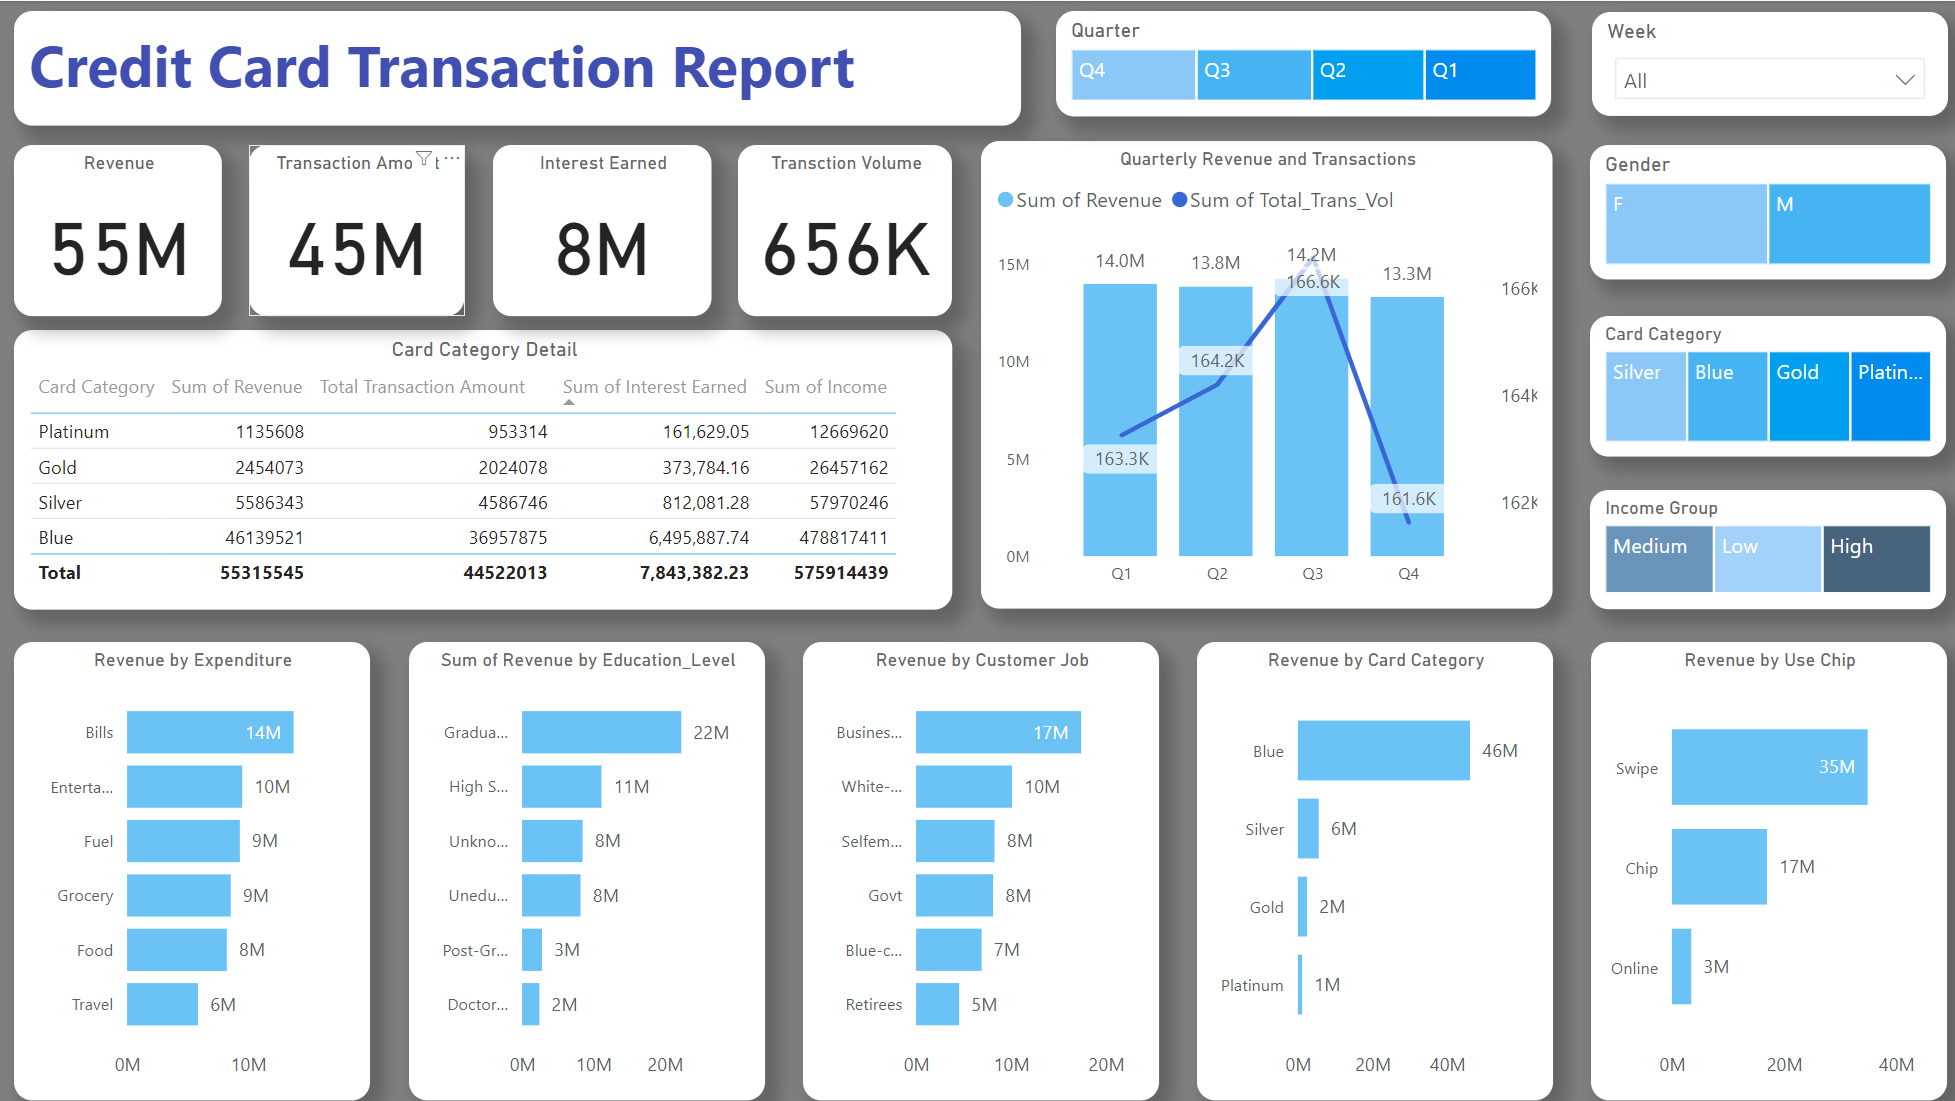

This screenshot's page, from the dashboard's own definition file:
{"tool":"powerbi","page":{"name":"CC Transaction Report","canvas":[1280,720],"ordinal":1},"visuals":[{"type":"textbox","box":[9.9,6.8,658.9,74.9],"z":0},{"type":"lineStackedColumnComboChart","title":"Quarterly Revenue and Transactions","fields":{"Category":["credit_card.Qtr"],"Y":["Sum(credit_card.Revenue)"],"Y2":["Sum(credit_card.Total_Trans_Vol)"]},"box":[642.4,91.7,374.1,306],"z":1000},{"type":"barChart","title":"Revenue by Expenditure","fields":{"Category":["credit_card.Exp Type"],"Y":["Sum(credit_card.Revenue)"]},"box":[10.1,419.3,232.5,299.9],"z":2000},{"type":"tableEx","title":"Card Category Detail","fields":{"Values":["credit_card.Card_Category","Sum(credit_card.Revenue)","Sum(credit_card.Total_Trans_Amt)","Sum(credit_card.Interest_Earned)","Sum(customer.Income)"]},"box":[10.1,215,614,182.7],"z":3000},{"type":"barChart","fields":{"Y":["Sum(credit_card.Revenue)"],"Category":["customer.Education_Level"]},"box":[268.1,419.3,232.7,299.9],"z":4000},{"type":"slicer","title":"Week","fields":{"Values":["credit_card.Week_Start_Date"]},"box":[1042.2,6.9,232.8,68.4],"z":5000},{"type":"barChart","title":"Revenue by Customer Job","fields":{"Category":["customer.Customer_Job"],"Y":["Sum(credit_card.Revenue)"]},"box":[525.9,419.3,232.8,299.9],"z":6000},{"type":"treemap","title":"Quarter","fields":{"Group":["credit_card.Qtr"],"Values":["Avg(customer.Client_Num)"]},"box":[691.7,6.8,324.5,68.7],"z":7000},{"type":"barChart","title":"Revenue by Card Category","fields":{"Category":["credit_card.Card_Category"],"Y":["Sum(credit_card.Revenue)"]},"box":[783.8,419.3,232.8,299.9],"z":8000},{"type":"treemap","title":"Gender","fields":{"Group":["customer.Gender"],"Values":["Avg(customer.Client_Num)"]},"box":[1041.4,94.4,233.2,88.3],"z":9000},{"type":"barChart","title":"Revenue by Use Chip","fields":{"Category":["credit_card.Use Chip"],"Y":["Sum(credit_card.Revenue)"]},"box":[1042.1,419.3,232.5,299.9],"z":10000},{"type":"treemap","title":"Card Category","fields":{"Group":["credit_card.Card_Category"],"Values":["Avg(customer.Client_Num)"]},"box":[1041.4,206.3,233.2,92.3],"z":11000},{"type":"treemap","title":"Income Group","fields":{"Values":["Avg(customer.Client_Num)"],"Group":["customer.Income_Group"]},"box":[1041.4,320.2,233.2,77.5],"z":12000},{"type":"card","title":"Revenue","fields":{"Values":["Sum(credit_card.Revenue)"]},"box":[10.1,94.4,135.7,111.9],"z":13000},{"type":"card","title":"Transaction Amount","fields":{"Values":["Sum(credit_card.Total_Trans_Amt)"]},"box":[163.9,94.4,140.9,111.9],"z":14000},{"type":"card","title":"Interest Earned","fields":{"Values":["Sum(credit_card.Interest_Earned)"]},"box":[323,94.4,142.7,111.9],"z":15000},{"type":"card","title":"Transction Volume","fields":{"Values":["Sum(credit_card.Total_Trans_Vol)"]},"box":[483.8,94.4,140.4,111.9],"z":16000}]}

Visuals, with their boxes in screenshot pixels (x1, y1, x2, y2), scaled from the page's 1280x720 canvas onto the 1955x1101 screenshot:
textbox: {"x1": 15, "y1": 10, "x2": 1021, "y2": 125}
"Quarterly Revenue and Transactions" lineStackedColumnComboChart: {"x1": 981, "y1": 140, "x2": 1553, "y2": 608}
"Revenue by Expenditure" barChart: {"x1": 15, "y1": 641, "x2": 371, "y2": 1100}
"Card Category Detail" tableEx: {"x1": 15, "y1": 329, "x2": 953, "y2": 608}
barChart - Sum(credit_card.Revenue) x customer.Education_Level: {"x1": 409, "y1": 641, "x2": 765, "y2": 1100}
"Week" slicer: {"x1": 1592, "y1": 11, "x2": 1947, "y2": 115}
"Revenue by Customer Job" barChart: {"x1": 803, "y1": 641, "x2": 1159, "y2": 1100}
"Quarter" treemap: {"x1": 1056, "y1": 10, "x2": 1552, "y2": 115}
"Revenue by Card Category" barChart: {"x1": 1197, "y1": 641, "x2": 1553, "y2": 1100}
"Gender" treemap: {"x1": 1591, "y1": 144, "x2": 1947, "y2": 279}
"Revenue by Use Chip" barChart: {"x1": 1592, "y1": 641, "x2": 1947, "y2": 1100}
"Card Category" treemap: {"x1": 1591, "y1": 315, "x2": 1947, "y2": 457}
"Income Group" treemap: {"x1": 1591, "y1": 490, "x2": 1947, "y2": 608}
"Revenue" card: {"x1": 15, "y1": 144, "x2": 223, "y2": 315}
"Transaction Amount" card: {"x1": 250, "y1": 144, "x2": 466, "y2": 315}
"Interest Earned" card: {"x1": 493, "y1": 144, "x2": 711, "y2": 315}
"Transction Volume" card: {"x1": 739, "y1": 144, "x2": 953, "y2": 315}
